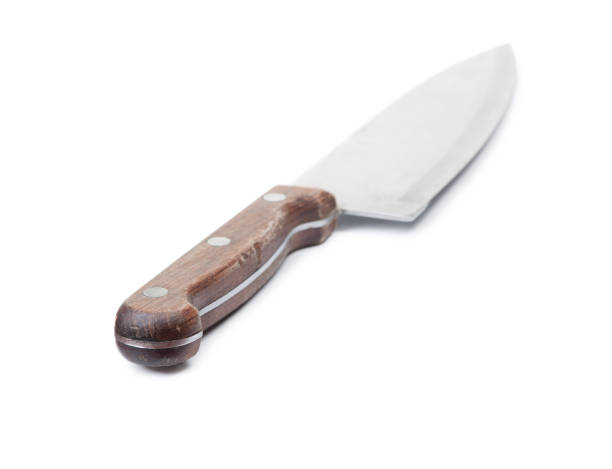knife: (114, 39, 518, 368)
